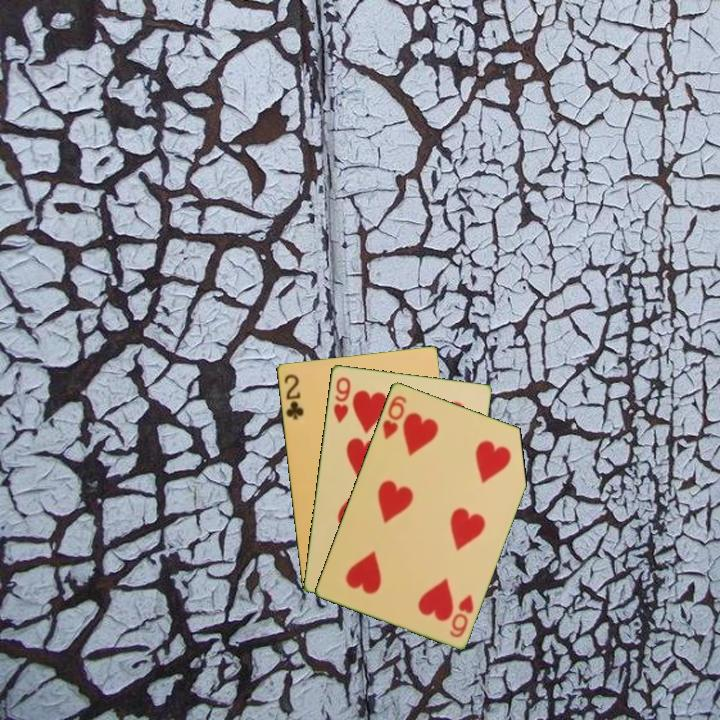2c: (280, 370, 306, 422)
6h: (379, 392, 409, 442), (446, 590, 476, 640)
9h: (330, 373, 353, 425)
